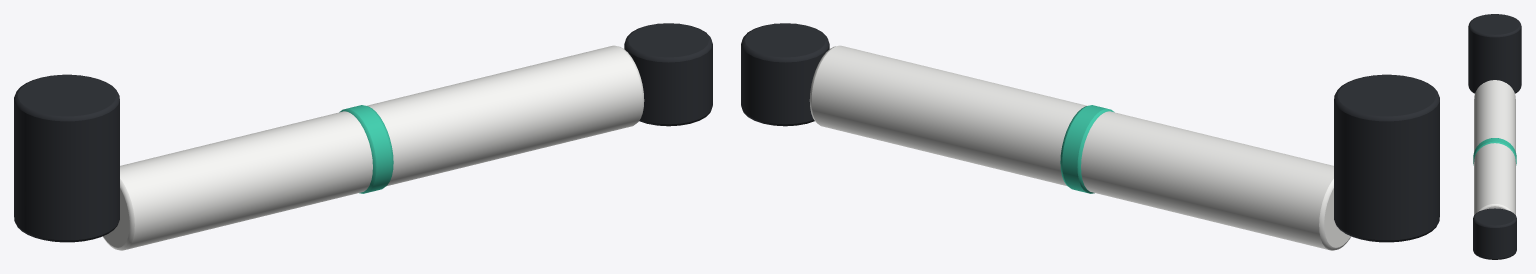
Rendered from forearm.obj.
3 views of the same model, side by side, from view 1: azimuth 30°, elevation 25°; view 2: azimuth 150°, elevation 25°; view 3: azimuth 270°, elevation 25° (orthographic). The views are drawn at different scales.
Visible parts, largest first — view 1: forearm; view 2: forearm; view 3: forearm.
Part boxes in pixels (x1,y1,x2,y2): forearm: (14, 23, 712, 250); forearm: (741, 23, 1439, 250); forearm: (1468, 14, 1521, 259).
Bounding box in the file's own units: 0.627 × 0.1445 × 0.084.
